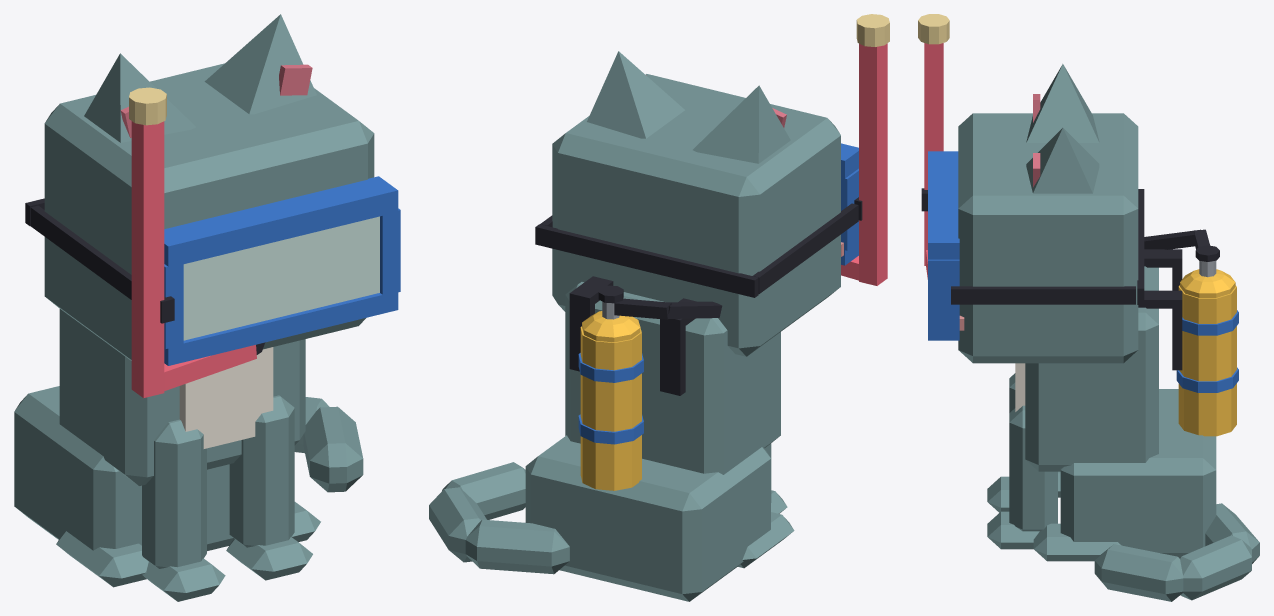
File: CatCafe_Cat_Glimmer_Sit.fbx
3 views of the same model, side by side, from view 1: azimuth 30°, elevation 25°; view 2: azimuth 150°, elevation 25°; view 3: azimuth 270°, elevation 25° (orthographic). The views are drawn at different scales.
Visible parts, largest first — view 1: CatCafe_Cat_Glimmer_Sit_Body, CatCafe_Cat_Glimmer_Sit_Head, CatCafe_Cat_Glimmer_Sit_Prop, CatCafe_Cat_Glimmer_Sit_Prop_Glass, CatCafe_Cat_Glimmer_Sit_LegF2, CatCafe_Cat_Glimmer_Sit_LegF1, CatCafe_Cat_Glimmer_Sit_EarL, CatCafe_Cat_Glimmer_Sit_Tail, CatCafe_Cat_Glimmer_Sit_EarR; view 2: CatCafe_Cat_Glimmer_Sit_Head, CatCafe_Cat_Glimmer_Sit_Body, CatCafe_Cat_Glimmer_Sit_Prop, CatCafe_Cat_Glimmer_Sit_Prop2, CatCafe_Cat_Glimmer_Sit_Tail, CatCafe_Cat_Glimmer_Sit_EarL, CatCafe_Cat_Glimmer_Sit_EarR; view 3: CatCafe_Cat_Glimmer_Sit_Head, CatCafe_Cat_Glimmer_Sit_Body, CatCafe_Cat_Glimmer_Sit_Prop, CatCafe_Cat_Glimmer_Sit_Prop2, CatCafe_Cat_Glimmer_Sit_Tail, CatCafe_Cat_Glimmer_Sit_LegF1, CatCafe_Cat_Glimmer_Sit_EarL, CatCafe_Cat_Glimmer_Sit_EarR, CatCafe_Cat_Glimmer_Sit_LegF2.
Boxes of the visible parts, x1,y1,x2,y2 form: CatCafe_Cat_Glimmer_Sit_Body: (14, 309, 320, 587); CatCafe_Cat_Glimmer_Sit_Head: (44, 63, 374, 360); CatCafe_Cat_Glimmer_Sit_Prop: (25, 87, 400, 398); CatCafe_Cat_Glimmer_Sit_Prop_Glass: (183, 216, 379, 340); CatCafe_Cat_Glimmer_Sit_LegF2: (142, 419, 225, 601); CatCafe_Cat_Glimmer_Sit_LegF1: (226, 395, 312, 580); CatCafe_Cat_Glimmer_Sit_EarL: (204, 14, 316, 114); CatCafe_Cat_Glimmer_Sit_Tail: (294, 397, 363, 492); CatCafe_Cat_Glimmer_Sit_EarR: (84, 53, 195, 142); CatCafe_Cat_Glimmer_Sit_Head: (552, 74, 843, 356); CatCafe_Cat_Glimmer_Sit_Body: (525, 282, 794, 601); CatCafe_Cat_Glimmer_Sit_Prop: (535, 14, 889, 297); CatCafe_Cat_Glimmer_Sit_Prop2: (569, 276, 722, 490); CatCafe_Cat_Glimmer_Sit_Tail: (429, 462, 569, 574); CatCafe_Cat_Glimmer_Sit_EarL: (587, 51, 684, 138); CatCafe_Cat_Glimmer_Sit_EarR: (693, 85, 790, 163); CatCafe_Cat_Glimmer_Sit_Head: (958, 113, 1138, 363); CatCafe_Cat_Glimmer_Sit_Body: (1015, 266, 1216, 561); CatCafe_Cat_Glimmer_Sit_Prop: (918, 14, 1144, 340); CatCafe_Cat_Glimmer_Sit_Prop2: (1138, 229, 1238, 436); CatCafe_Cat_Glimmer_Sit_Tail: (1094, 503, 1259, 601); CatCafe_Cat_Glimmer_Sit_LegF1: (987, 405, 1057, 549); CatCafe_Cat_Glimmer_Sit_EarL: (1026, 128, 1099, 193); CatCafe_Cat_Glimmer_Sit_EarR: (1026, 64, 1099, 142); CatCafe_Cat_Glimmer_Sit_LegF2: (987, 373, 1015, 512).
Size of the model in its own units: 1.35 by 1.95 by 1.33.
1 material, 1 textured.
